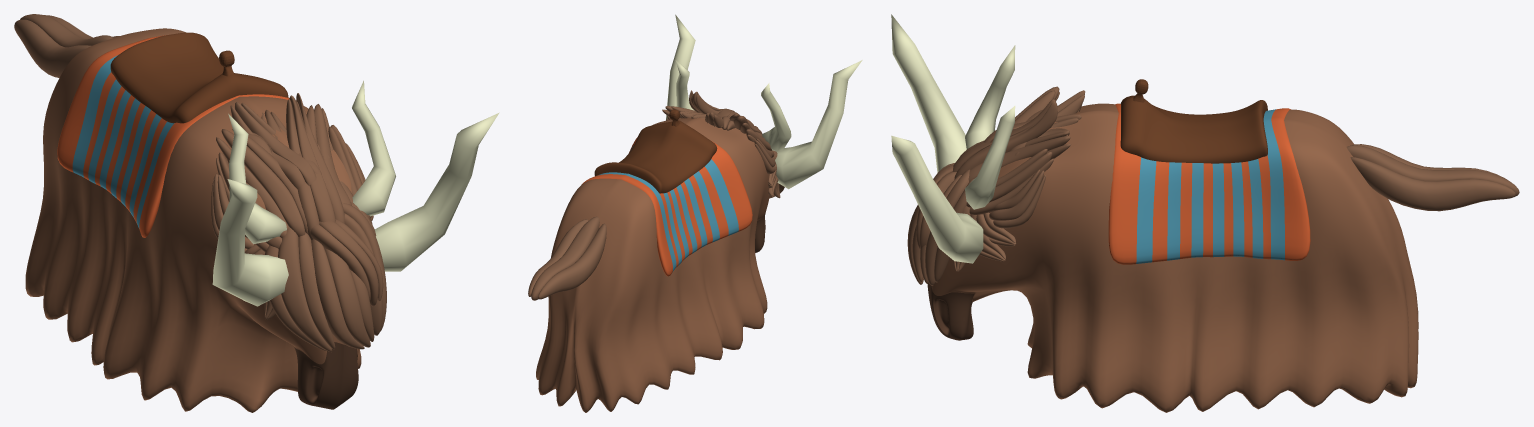
The model's file is Mount.fbx.
The picture shows the model from 3 angles, left to right: view 1: azimuth 30°, elevation 25°; view 2: azimuth 150°, elevation 25°; view 3: azimuth 270°, elevation 25°; orthographic projection. The views are drawn at different scales.
Parts seen in each view (by area): view 1: Cube, Cube.002, Cube.003, Hair.001, Cube.001, Hair.002; view 2: Cube, Cube.002, Cube.003, Hair.002, Hair.001; view 3: Cube, Cube.002, Cube.003, Hair.001, Hair.002, Cube.001.
Part boxes in pixels (bbox=[...]): Cube: bbox=[25, 28, 361, 412]; Cube.002: bbox=[57, 32, 289, 237]; Cube.003: bbox=[212, 80, 499, 306]; Hair.001: bbox=[211, 93, 373, 319]; Cube.001: bbox=[265, 202, 386, 352]; Hair.002: bbox=[14, 14, 119, 77]; Cube: bbox=[536, 117, 769, 412]; Cube.002: bbox=[581, 109, 752, 276]; Cube.003: bbox=[666, 14, 862, 189]; Hair.002: bbox=[528, 216, 606, 300]; Hair.001: bbox=[662, 90, 780, 198]; Cube: bbox=[927, 103, 1418, 412]; Cube.002: bbox=[1108, 79, 1310, 264]; Cube.003: bbox=[891, 14, 1015, 263]; Hair.001: bbox=[952, 86, 1085, 271]; Hair.002: bbox=[1346, 144, 1519, 211]; Cube.001: bbox=[907, 163, 973, 285].
Bounding box in the file's own units: 522 × 610 × 1139.
